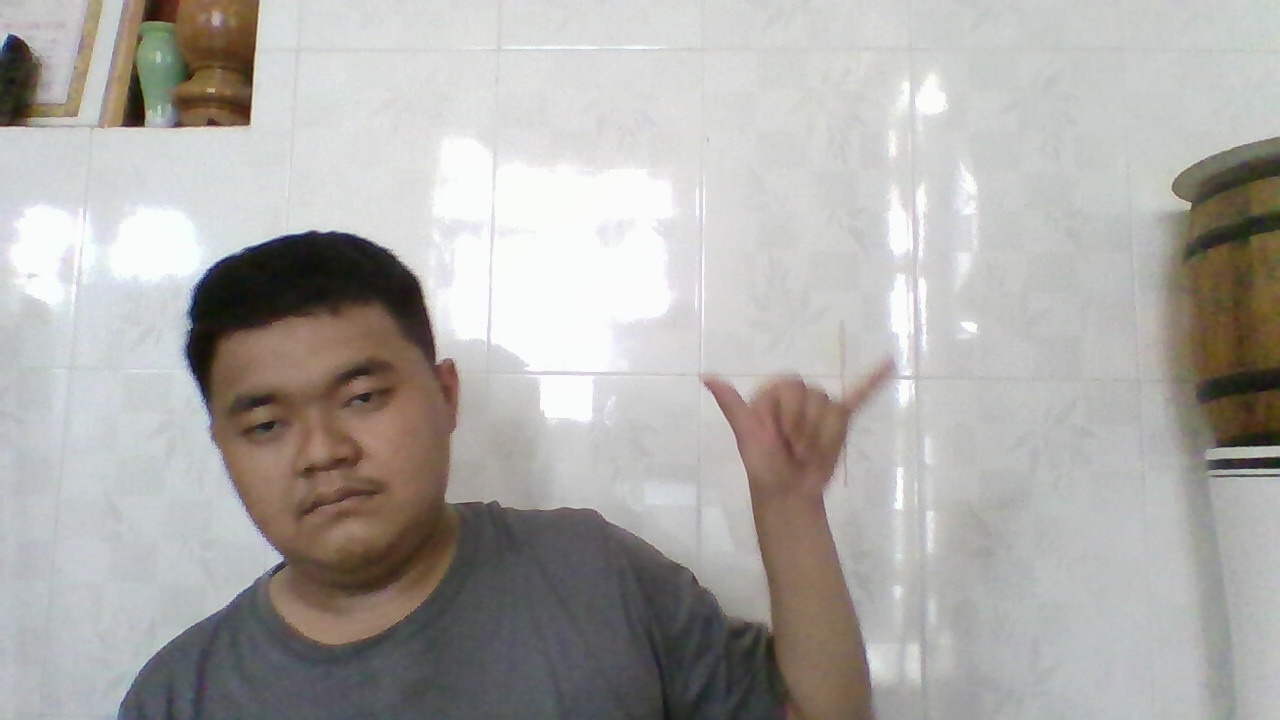Y: (694, 351, 905, 518)
